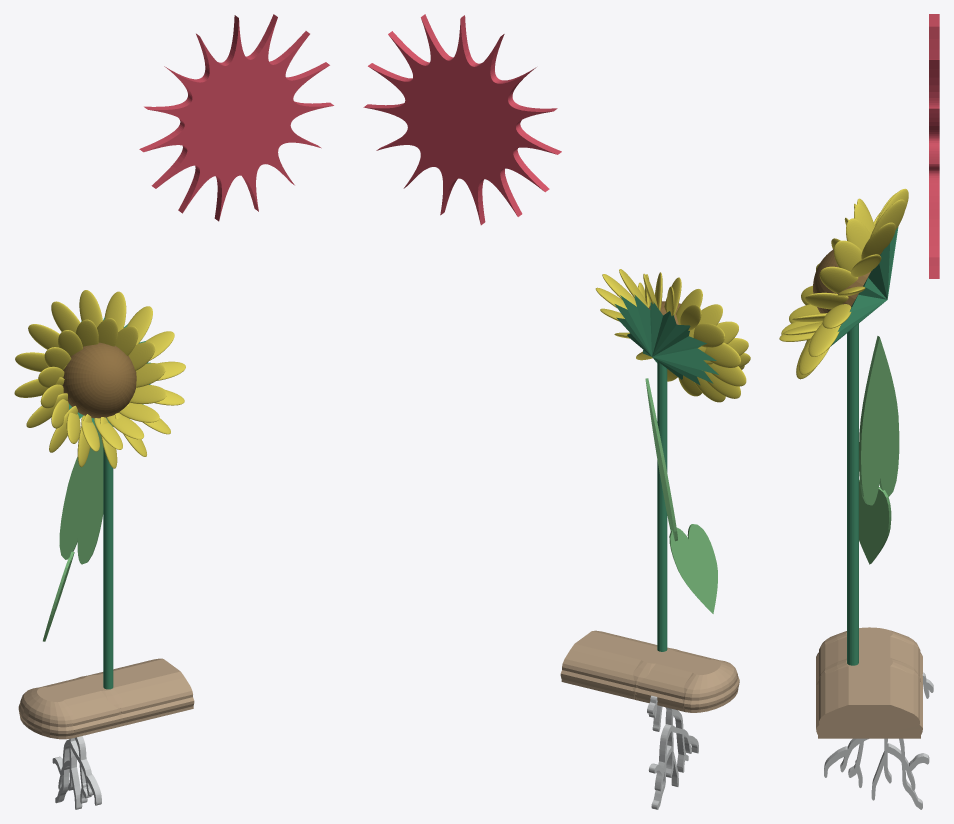
File: Photosynthesis.fbx
3 views of the same model, side by side, from view 1: azimuth 30°, elevation 25°; view 2: azimuth 150°, elevation 25°; view 3: azimuth 270°, elevation 25° (orthographic). The views are drawn at different scales.
Visible parts, largest first — view 1: Mesh_Mesh_head_geo.001_lambert2SG.001; view 2: Mesh_Mesh_head_geo.001_lambert2SG.001; view 3: Mesh_Mesh_head_geo.001_lambert2SG.001.
Part boxes in pixels (x1=…): Mesh_Mesh_head_geo.001_lambert2SG.001: x1=14, y1=14, x2=333, y2=809; Mesh_Mesh_head_geo.001_lambert2SG.001: x1=363, y1=14, x2=750, y2=809; Mesh_Mesh_head_geo.001_lambert2SG.001: x1=779, y1=14, x2=939, y2=809.
Bounding box in the file's own units: 17866 × 36691 × 5984.
